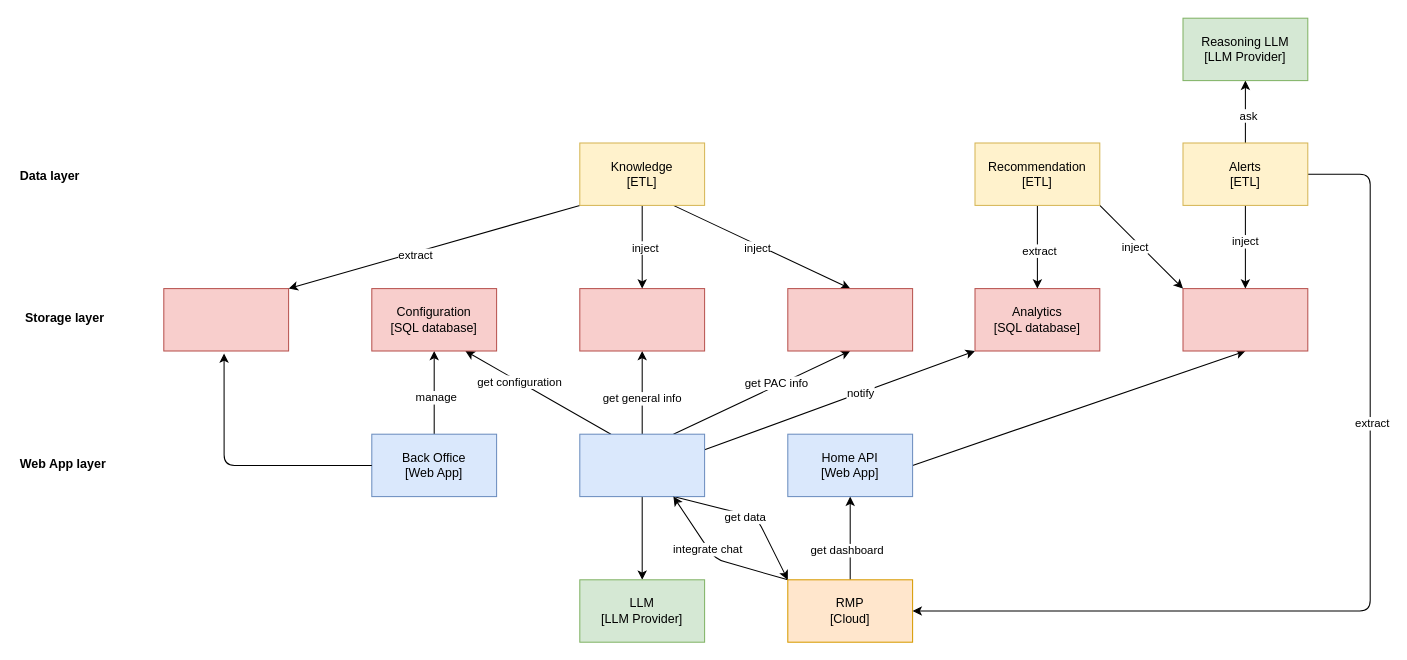
The diagram is 1407 pixels wide and 660 high, and some of its shapes have lost their labels. Each missing label, with the centre of its shape:
"Alerts [SQL database]" belongs at point 1245,319.
"Chat Bot [Web App]" belongs at point 642,465.
"General Knowledge [Vector Store]" belongs at point 642,319.
"PAC Knowledge [Vector Store]" belongs at point 850,319.
"Raw Definitions, tutorial videos [Object Storage]" belongs at point 226,319.
